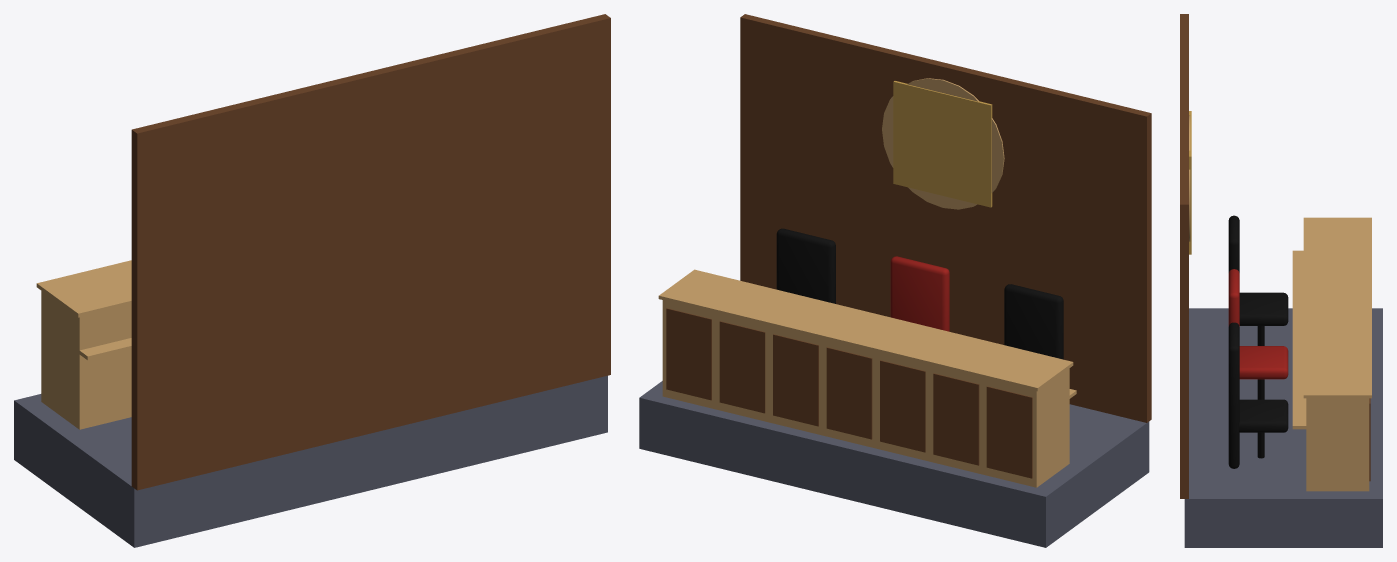
The model's file is justice.court.judges_bench.glb.
3 renders of one model, left to right at view 1: azimuth 30°, elevation 25°; view 2: azimuth 150°, elevation 25°; view 3: azimuth 270°, elevation 25°, orthographic. The views are drawn at different scales.
Visible parts, largest first — view 1: crest__hardwood, dais__carpet, dais__glulam; view 2: crest__hardwood, dais__carpet, dais__glulam, dais__hardwood, crest__brass, seats__leather_black, seats__fabric_red, crest__glulam; view 3: dais__carpet, dais__glulam, seats__leather_black, crest__hardwood, seats__fabric_red, seats__plastic_black, crest__brass.
Boxes of the visible parts, <box> form: crest__hardwood: <box>131,14,610,490</box>; dais__carpet: <box>14,375,607,547</box>; dais__glulam: <box>36,260,131,429</box>; crest__hardwood: <box>740,14,1151,422</box>; dais__carpet: <box>639,381,1149,547</box>; dais__glulam: <box>658,269,1076,487</box>; dais__hardwood: <box>666,308,1032,478</box>; crest__brass: <box>893,81,992,207</box>; seats__leather_black: <box>776,228,1063,359</box>; seats__fabric_red: <box>890,256,949,331</box>; crest__glulam: <box>882,78,1004,209</box>; dais__carpet: <box>1184,308,1382,547</box>; dais__glulam: <box>1292,217,1371,491</box>; seats__leather_black: <box>1228,215,1288,468</box>; crest__hardwood: <box>1180,14,1188,498</box>; seats__fabric_red: <box>1228,269,1288,379</box>; seats__plastic_black: <box>1257,326,1264,458</box>; crest__brass: <box>1189,111,1191,254</box>.
Size of the model in its own units: 5 by 4.2 by 2.25.
